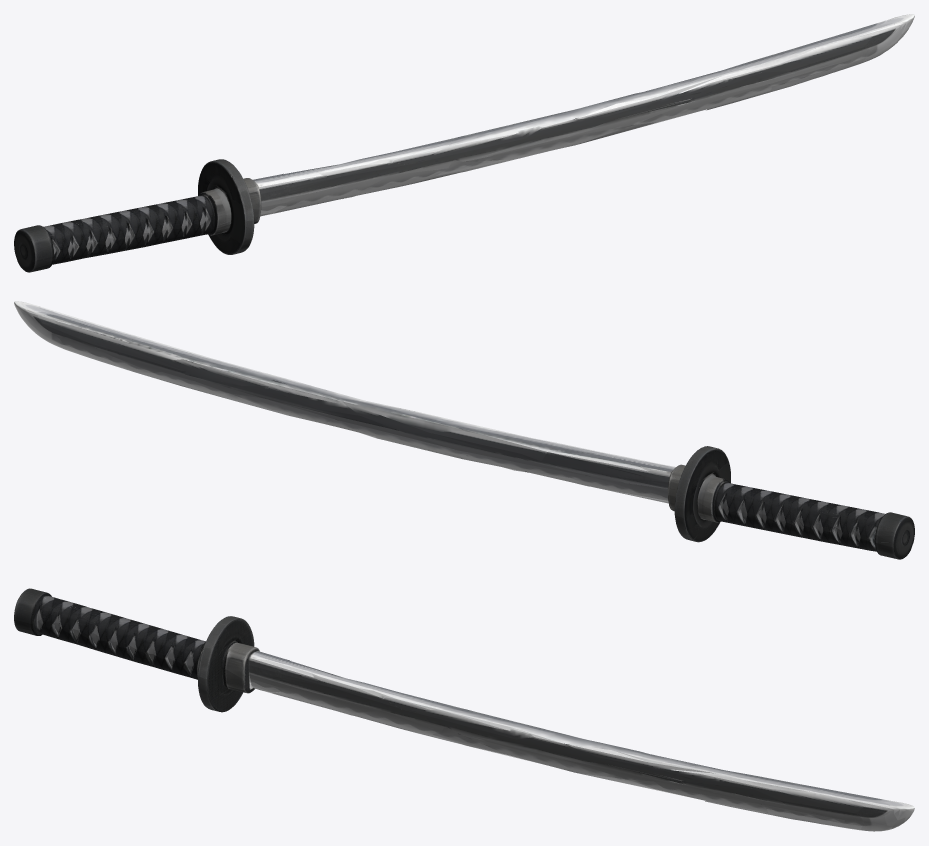
The model's file is katana.glb.
The picture shows the model from 3 angles, top to bottom: view 1: azimuth 30°, elevation 25°; view 2: azimuth 150°, elevation 25°; view 3: azimuth 330°, elevation 25°; orthographic projection.
Parts seen in each view (by area): view 1: output_unwrapped; view 2: output_unwrapped; view 3: output_unwrapped.
Part boxes in pixels (<box>): output_unwrapped: <box>14,14,914,272</box>; output_unwrapped: <box>14,301,914,559</box>; output_unwrapped: <box>14,588,914,831</box>.
Bounding box in the file's own units: 1.9 × 0.1787 × 0.1753.
Materials: 1 (1 with a texture image).
